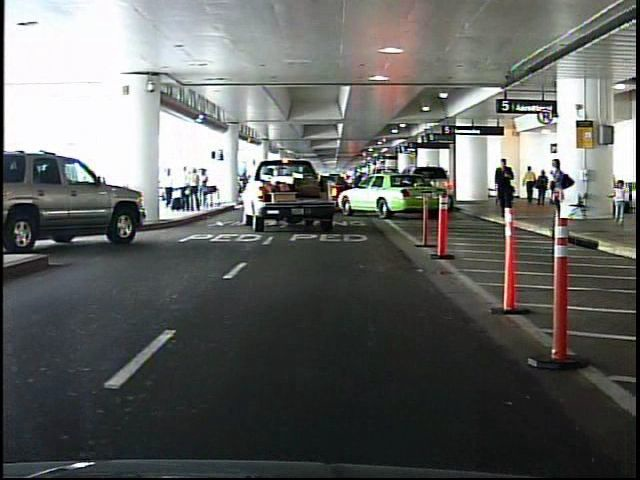person: (546, 155, 572, 226), (493, 156, 515, 220), (606, 177, 628, 227), (537, 171, 549, 208), (525, 166, 535, 204)
